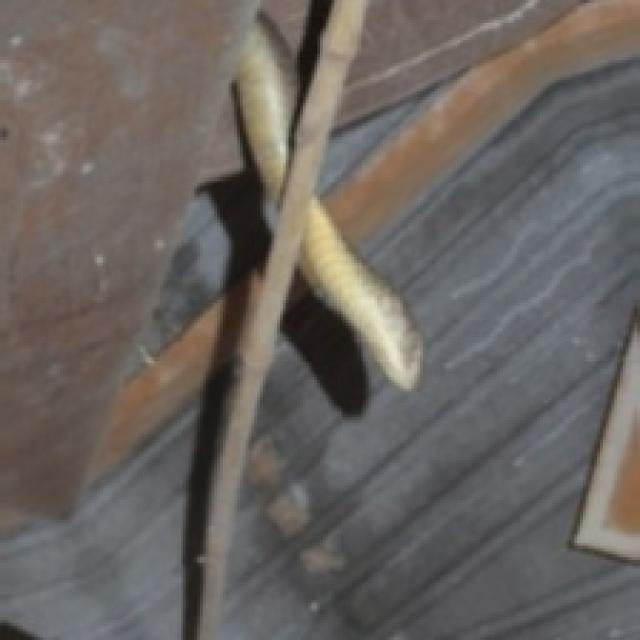king cobra: (183, 0, 366, 637)
